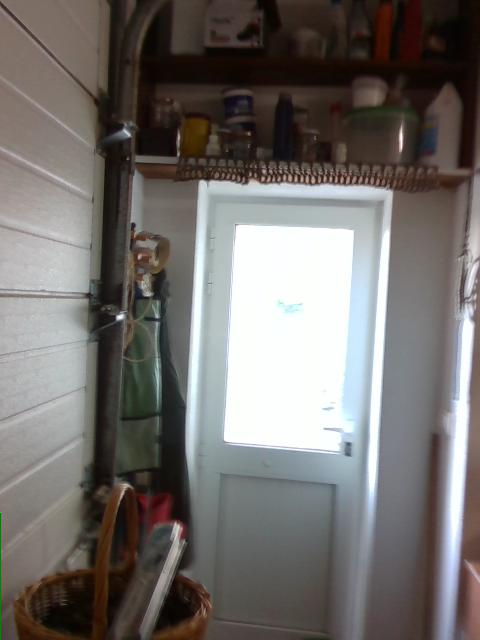door: (186, 178, 392, 639)
